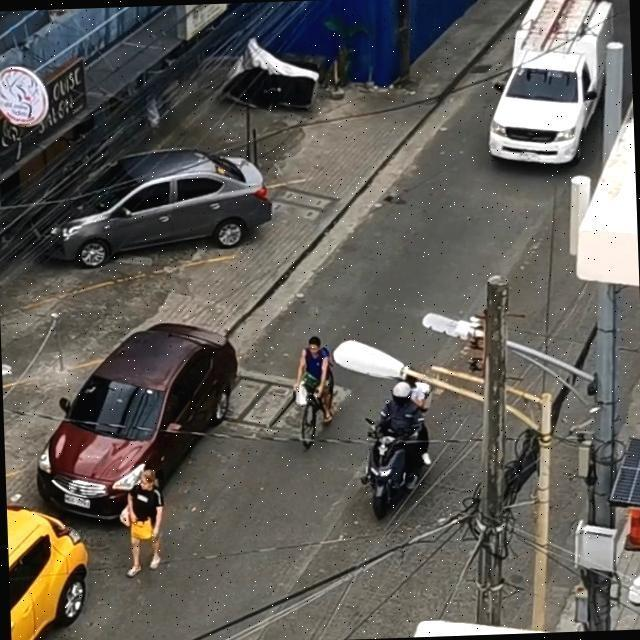Motorcycle: (352, 370, 448, 523)
